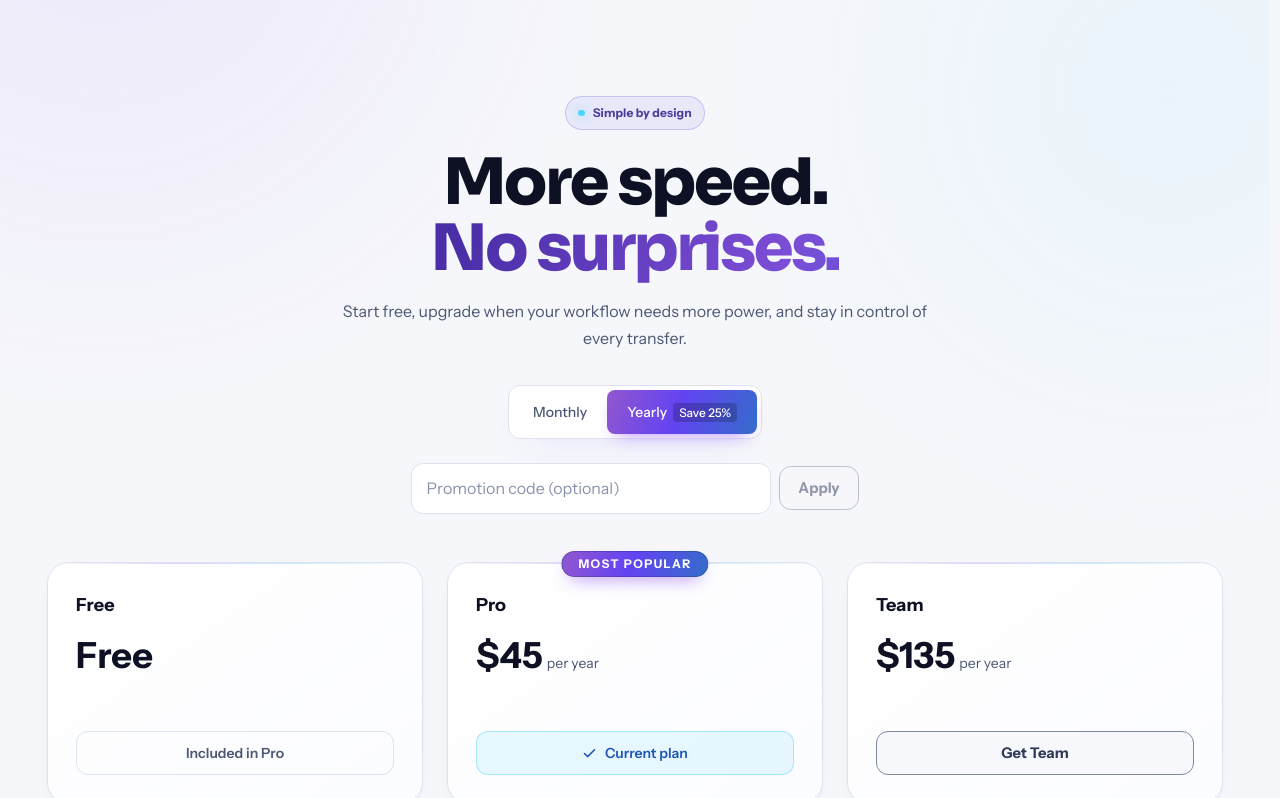
Test case: Pricing — an account Stripe already bills › keeps any other checkout failure as the plain error it was
This screenshot has width=1280, height=798.
Click the button "Get Team".
click(1035, 753)  # box [876,731,1194,775]
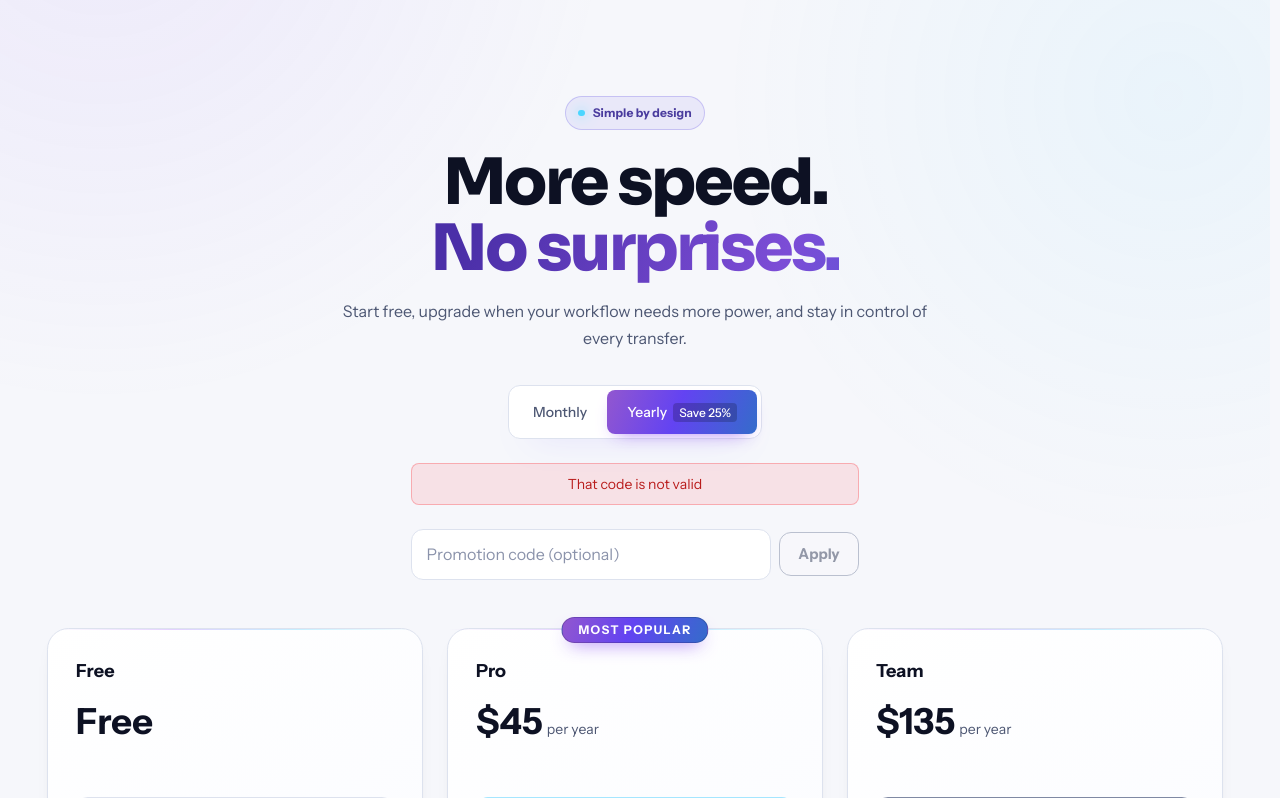
Now the text "That code is not valid" is shown, box [411,463,859,505]
